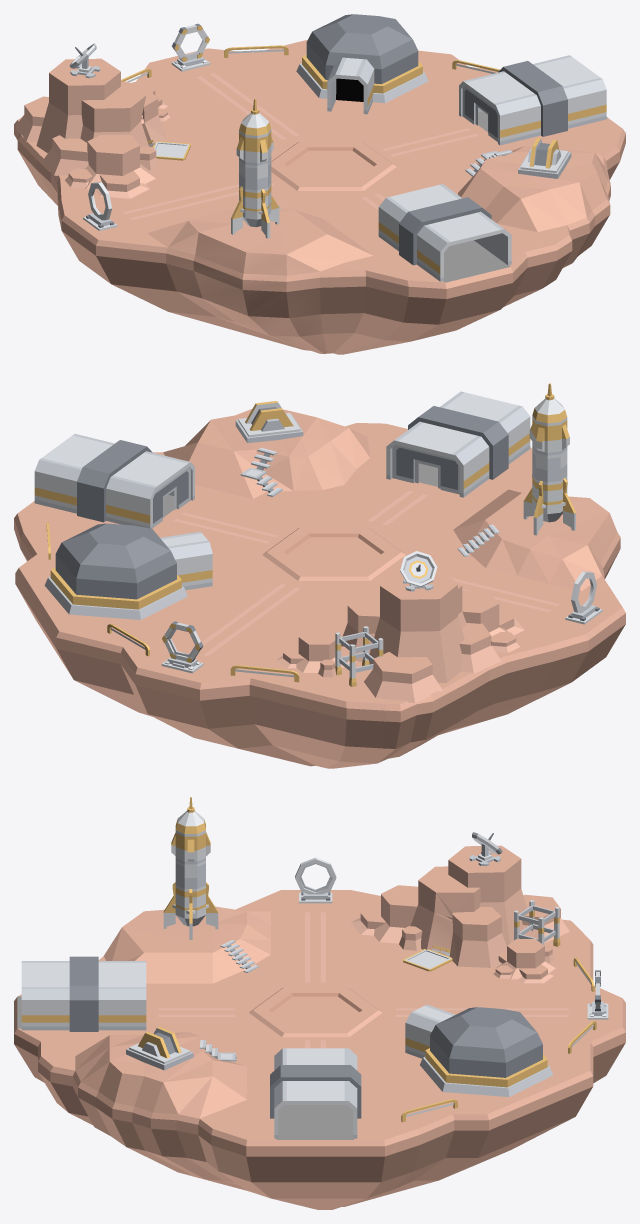
File: new_island.gltf
3 renders of one model, top to bottom at view 1: azimuth 30°, elevation 25°; view 2: azimuth 150°, elevation 25°; view 3: azimuth 270°, elevation 25°, orthographic. The views are drawn at different scales.
Visible parts, largest first — view 1: terrain, rock_largeB, hangar_largeB.001, hangar_largeB, hangar_roundGlass, rocket_baseB, rock, crater, terrain_roadStraight.001, terrain_roadStraight.003, terrain_roadStraight.002, corridor (+7 smaller); view 2: terrain, rock_largeB, hangar_roundGlass, hangar_largeB.001, hangar_largeB, rocket_baseB, crater, terrain_roadStraight.001, rock, terrain_roadStraight.002, rock.001, corridor (+10 smaller); view 3: terrain, rock_largeB, hangar_roundGlass, hangar_largeB, hangar_largeB.001, rocket_baseB, crater, terrain_roadStraight.003, rock, rock.001, terrain_roadStraight.001, machine_generatorLarge (+7 smaller).
Boxes of the visible parts, x1,y1,x2,y2 form: terrain: [14, 39, 625, 354]; rock_largeB: [15, 58, 166, 175]; hangar_largeB.001: [459, 55, 606, 145]; hangar_largeB: [378, 184, 511, 281]; hangar_roundGlass: [296, 14, 428, 103]; rocket_baseB: [231, 99, 279, 238]; rock: [65, 134, 158, 198]; crater: [271, 141, 396, 190]; terrain_roadStraight.001: [188, 71, 308, 141]; terrain_roadStraight.003: [117, 179, 279, 223]; terrain_roadStraight.002: [377, 124, 483, 160]; corridor: [327, 57, 374, 114]; terrain: [14, 408, 625, 768]; rock_largeB: [341, 570, 501, 702]; hangar_roundGlass: [44, 523, 187, 619]; hangar_largeB.001: [34, 434, 194, 528]; hangar_largeB: [386, 391, 530, 497]; rocket_baseB: [523, 383, 575, 535]; crater: [262, 527, 405, 580]; terrain_roadStraight.001: [179, 581, 309, 658]; rock: [462, 590, 524, 652]; terrain_roadStraight.002: [168, 508, 283, 547]; rock.001: [276, 629, 356, 677]; corridor: [160, 531, 212, 590]; terrain: [14, 890, 625, 1209]; rock_largeB: [410, 845, 569, 967]; hangar_roundGlass: [420, 1007, 552, 1096]; hangar_largeB: [21, 956, 146, 1031]; hangar_largeB.001: [270, 1048, 361, 1138]; rocket_baseB: [163, 797, 218, 939]; crater: [249, 987, 382, 1037]; terrain_roadStraight.003: [294, 912, 336, 982]; rock: [351, 885, 422, 950]; rock.001: [493, 939, 555, 983]; terrain_roadStraight.001: [396, 1004, 568, 1021]; machine_generatorLarge: [126, 1026, 193, 1070].
Size of the model in its own units: 14.41 by 8.92 by 14.74.
